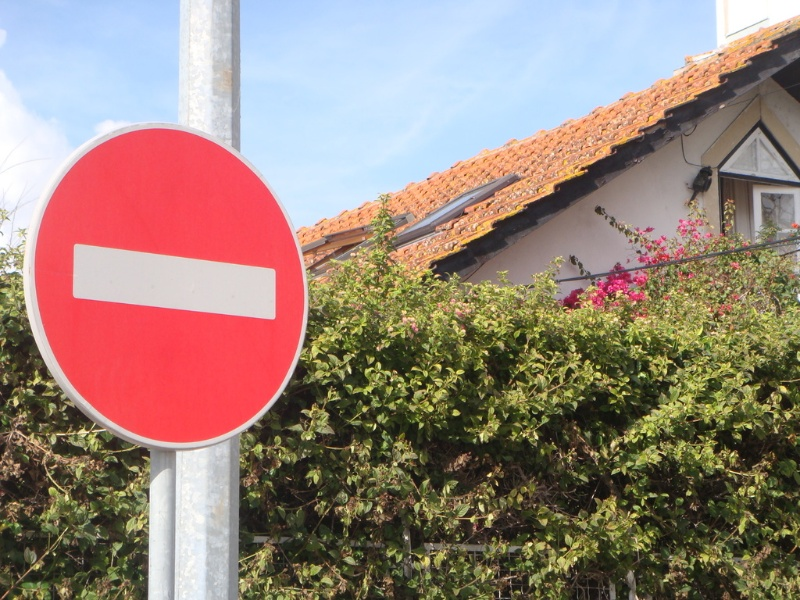no_entry: (25, 114, 312, 454)
